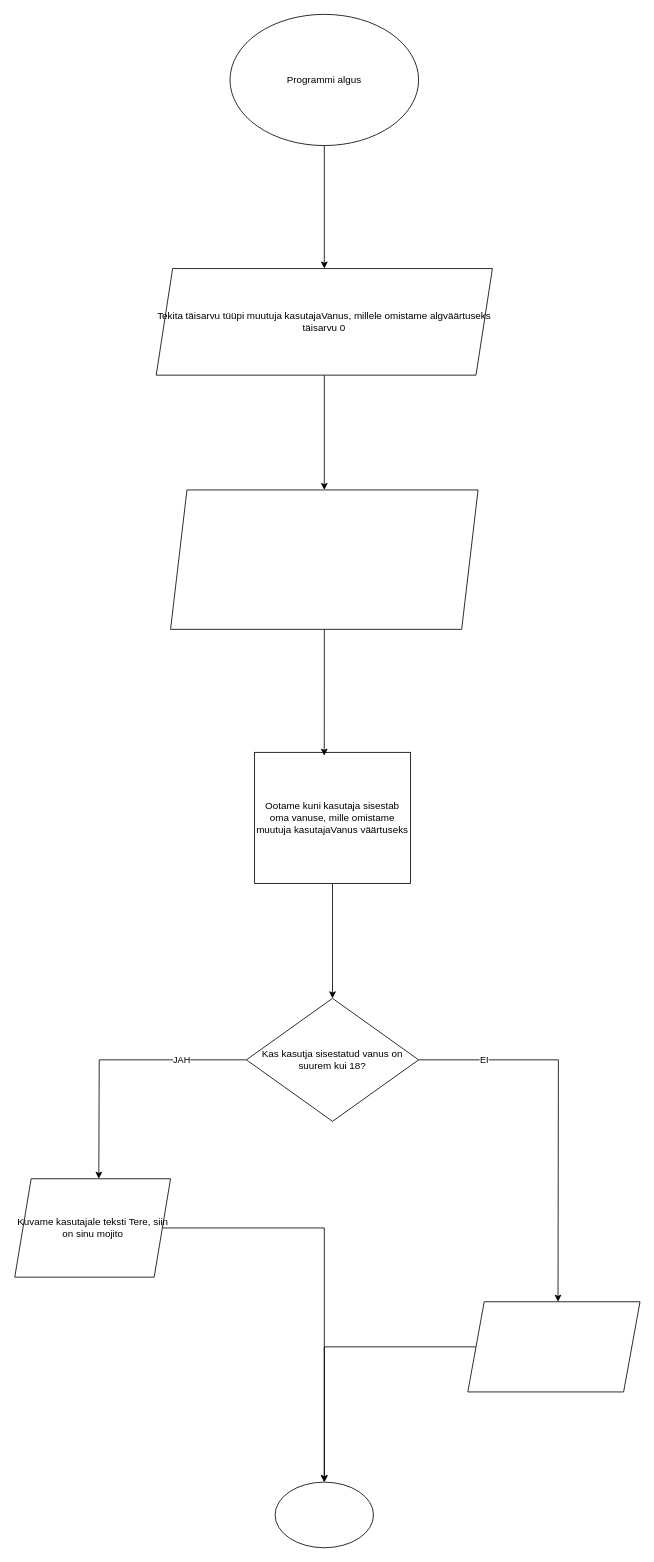
This 654x1562 diagram has some shape labels left out. The box of each missing label's shape, as (x1, y1, x2, y2) in pixels:
Kuva kasutajale tekst Kui vana sa oled?: (170, 489, 478, 629)
Kuvame kasutajale teksti Alaealisi sisse ei lasta, mine vembutembumaale.: (467, 1301, 640, 1392)
Programmi lõpp: (274, 1481, 374, 1548)
